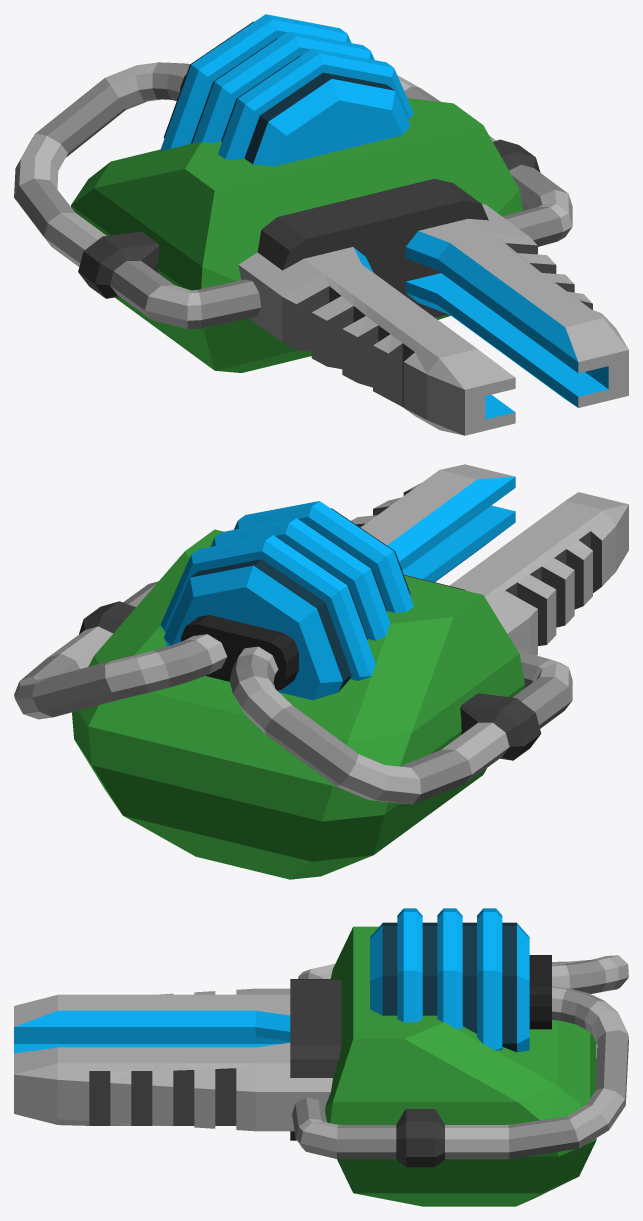
Rendered from rail_cannon.fbx.
The picture shows the model from 3 angles, top to bottom: view 1: azimuth 30°, elevation 25°; view 2: azimuth 150°, elevation 25°; view 3: azimuth 270°, elevation 25°; orthographic projection. The views are drawn at different scales.
Visible parts, largest first — view 1: Cube.053, Cube.051, Cylinder.027, Cube.054; view 2: Cube.053, Cylinder.027, Cube.051, Cube.055; view 3: Cube.053, Cube.051, Cylinder.027, Cube.054, Cube.055.
Boxes of the visible parts, x1,y1,x2,y2 form: Cube.053: (14,62,572,372); Cube.051: (238,204,628,435); Cylinder.027: (160,14,413,166); Cube.054: (257,178,488,317); Cube.053: (14,529,572,879); Cylinder.027: (160,501,413,700); Cube.051: (351,464,628,655); Cube.055: (181,615,298,690); Cube.053: (292,926,628,1206); Cube.051: (14,988,332,1131); Cylinder.027: (370,908,529,1052); Cube.054: (290,979,341,1140); Cube.055: (529,955,551,1029).
Bounding box in the file's own units: 116 × 77.14 × 161.
